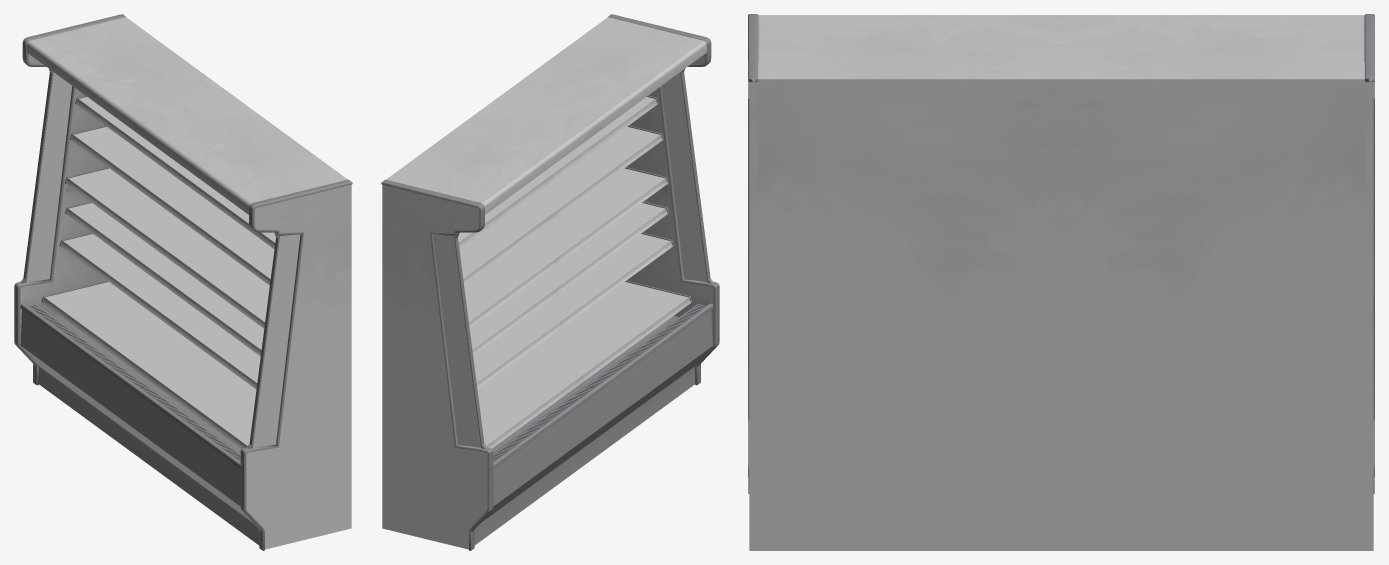
The model's file is SM_Freezer_01_Wide_Dense.fbx.
The picture shows the model from 3 angles, left to right: view 1: azimuth 30°, elevation 25°; view 2: azimuth 150°, elevation 25°; view 3: azimuth 270°, elevation 25°; orthographic projection. The views are drawn at different scales.
Parts seen in each view (by area): view 1: SM_Freezer_01_Wide_Dense_LOD0; view 2: SM_Freezer_01_Wide_Dense_LOD0; view 3: SM_Freezer_01_Wide_Dense_LOD0.
Part boxes in pixels (x1,y1,x2,y2): SM_Freezer_01_Wide_Dense_LOD0: (14,14,352,550); SM_Freezer_01_Wide_Dense_LOD0: (381,14,719,550); SM_Freezer_01_Wide_Dense_LOD0: (748,14,1374,550).
Bounding box in the file's own units: 65.75 × 241 × 201.
